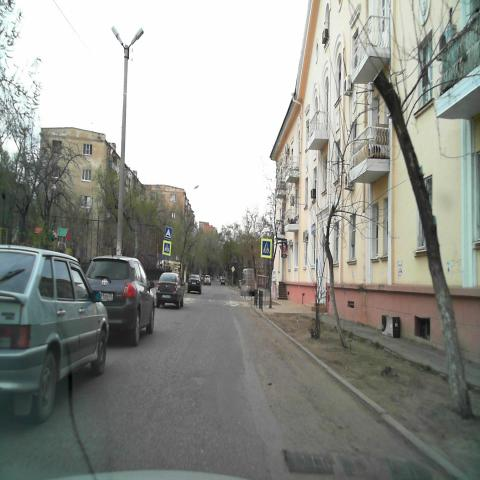5_20: (164, 224, 172, 238)
